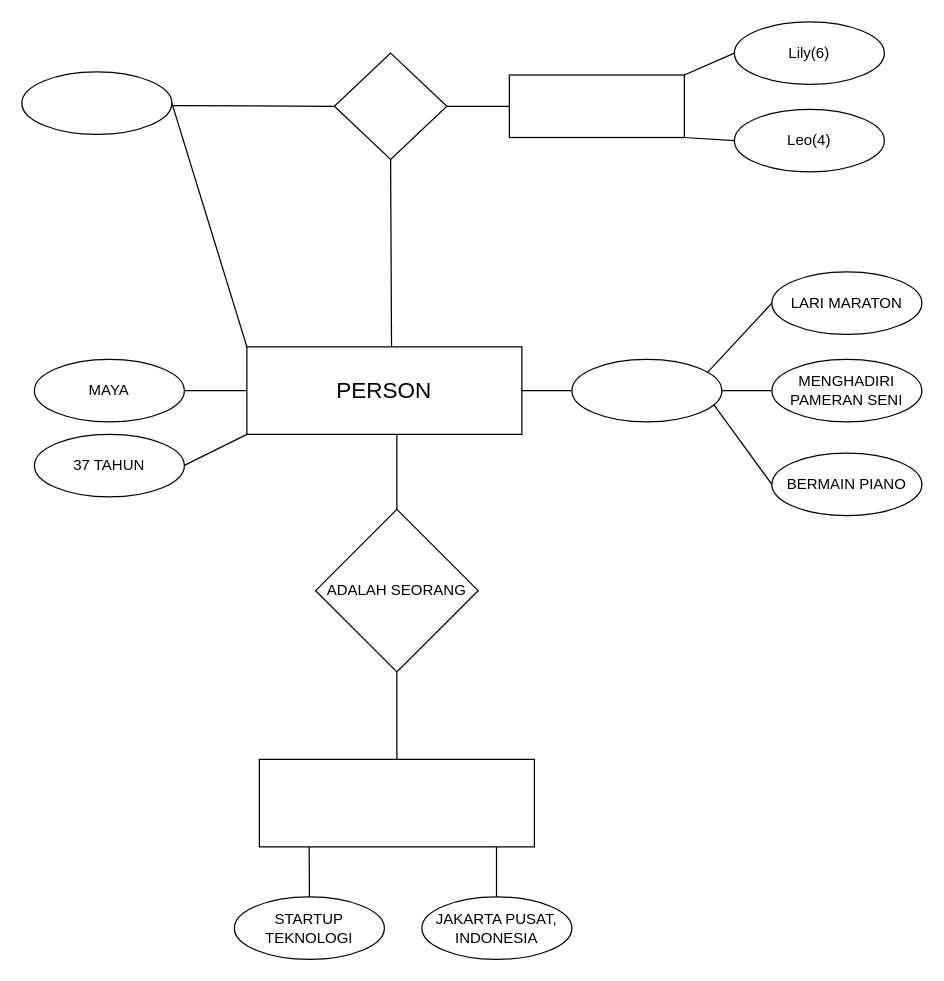
This 944x981 diagram has some shape labels left out. Here are the shapes that lost their labels. From the top down, the centre of each, then its label:
At (x=96, y=102): "MENIKAH".
At (x=390, y=105): "MEMPUNYAI".
At (x=596, y=106): "ANAK".
At (x=646, y=390): "HOBI".
At (x=396, y=802): "DIREKTUR PEMASARAN".
